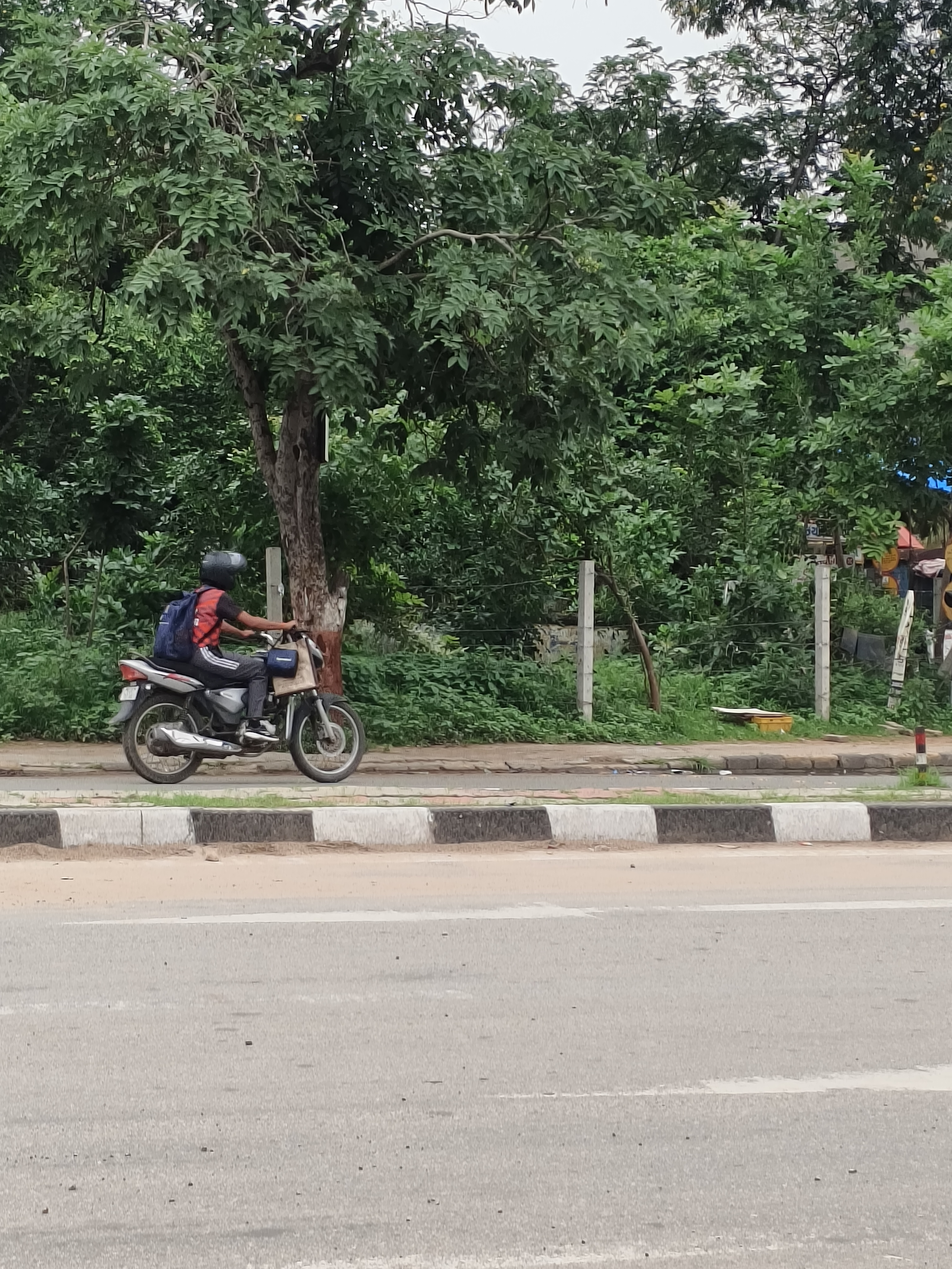BikeWithRider: (107, 545, 370, 787)
Helmet: (195, 545, 248, 593)
